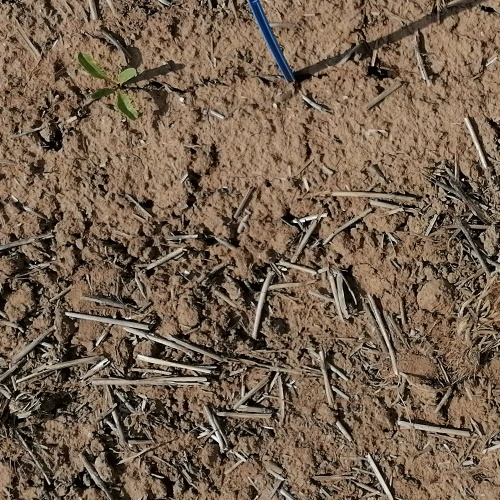beet: (80, 50, 139, 121)
